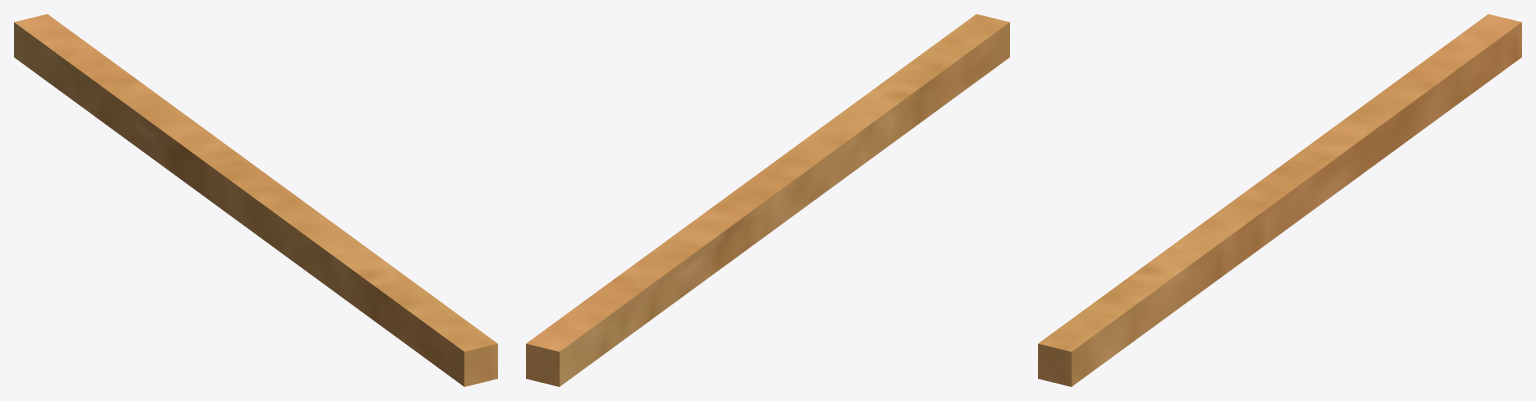
Rendered from original-33.obj.
3 views of the same model, side by side, from view 1: azimuth 30°, elevation 25°; view 2: azimuth 150°, elevation 25°; view 3: azimuth 330°, elevation 25° (orthographic).
Parts seen in each view (by area): view 1: Group33/mesh65/mesh65-geometry#mesh65-geometry; view 2: Group33/mesh65/mesh65-geometry#mesh65-geometry; view 3: Group33/mesh65/mesh65-geometry#mesh65-geometry.
Part boxes in pixels (x1,y1,x2,y2): Group33/mesh65/mesh65-geometry#mesh65-geometry: (14, 14, 497, 386); Group33/mesh65/mesh65-geometry#mesh65-geometry: (526, 14, 1009, 386); Group33/mesh65/mesh65-geometry#mesh65-geometry: (1038, 14, 1521, 386).
Bounding box in the file's own units: 0.0196 × 0.0196 × 0.4568.
